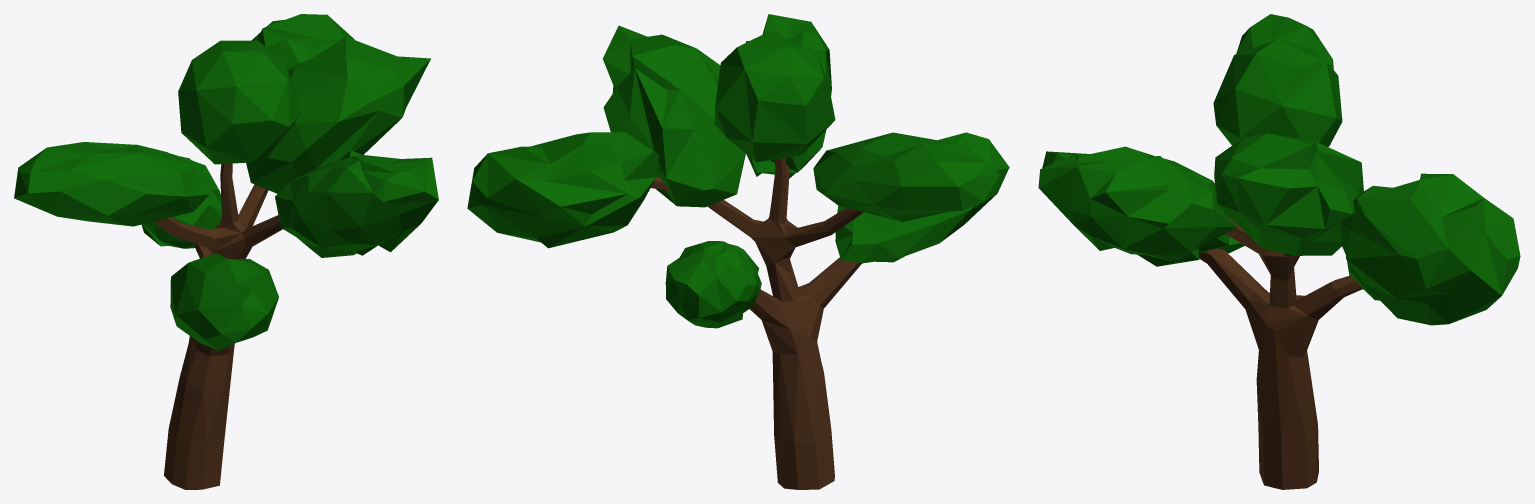
Rendered from Tree1.0.LOD.fbx.
The picture shows the model from 3 angles, left to right: view 1: azimuth 30°, elevation 25°; view 2: azimuth 150°, elevation 25°; view 3: azimuth 270°, elevation 25°; orthographic projection. The views are drawn at different scales.
Visible parts, largest first — view 1: Tree1.0_LOD0; view 2: Tree1.0_LOD0; view 3: Tree1.0_LOD0.
Boxes of the visible parts, x1,y1,x2,y2 form: Tree1.0_LOD0: (14,14,438,489); Tree1.0_LOD0: (467,14,1009,489); Tree1.0_LOD0: (1038,14,1520,489).
Size of what is drawn, in the model's own units: 1687 by 1613 by 1560.
1 material, 1 textured.
